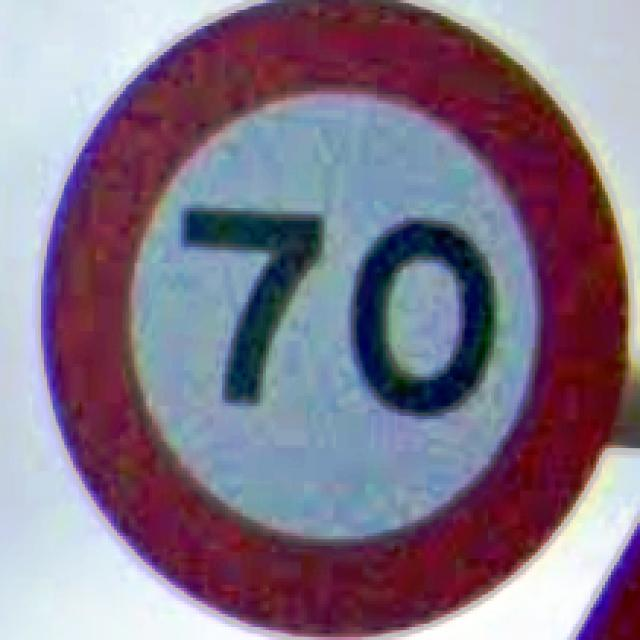max70: (32, 0, 637, 637)
